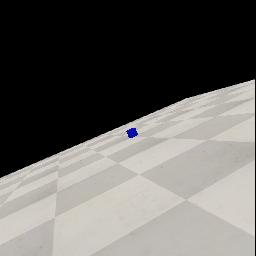box: (126, 128, 138, 138)
